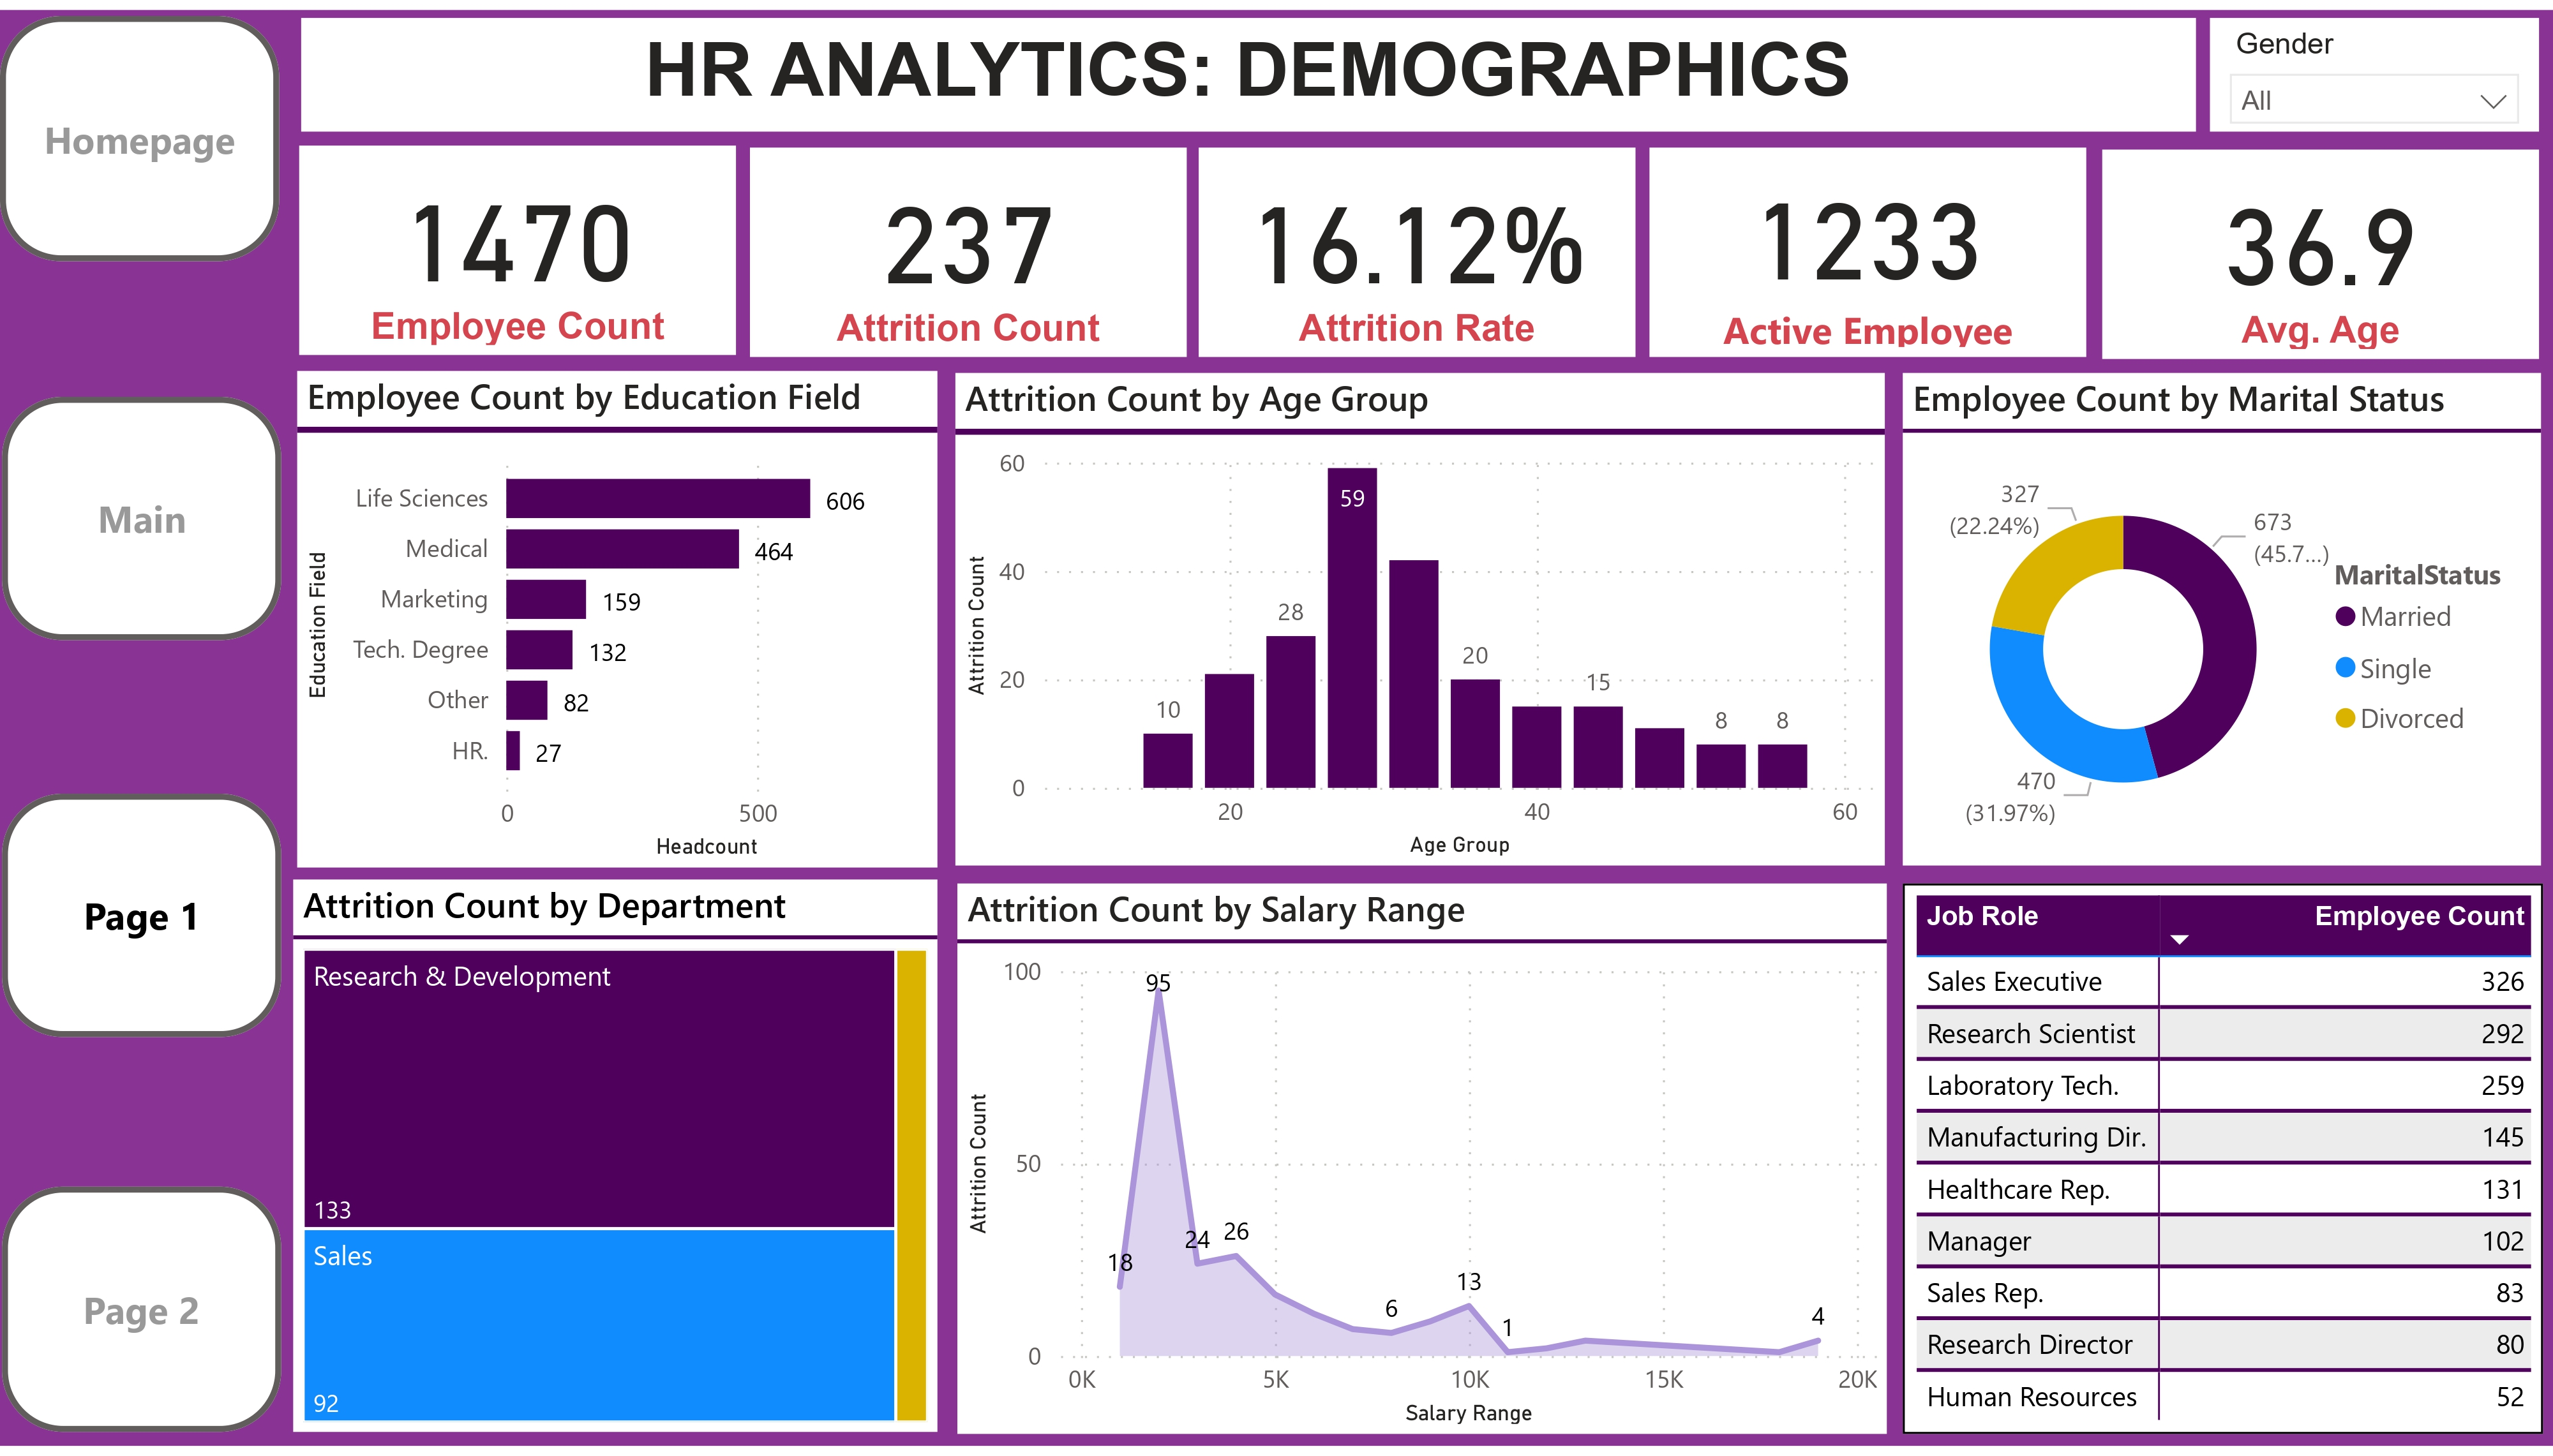

The page's visual inventory and layout, read from the dashboard file:
{"tool":"powerbi","page":{"name":"P1","canvas":[1280,720],"ordinal":2},"visuals":[{"type":"card","fields":{"Values":["Analysed_HR_Data.Headcount"]},"box":[149.9,67.5,218.8,105.4],"z":0},{"type":"textbox","box":[151.3,4.1,949.6,56.7],"z":1000},{"type":"card","fields":{"Values":["Analysed_HR_Data.Attrition Count"]},"box":[375.5,68.9,218.8,105.4],"z":2000},{"type":"card","fields":{"Values":["Analysed_HR_Data.Exit Rate"]},"box":[601.1,68.9,218.8,105.4],"z":3000},{"type":"card","fields":{"Values":["Analysed_HR_Data.Active Employee"]},"box":[826.7,68.9,218.8,105.4],"z":4000},{"type":"card","fields":{"Values":["Analysed_HR_Data.Avg. Age"]},"box":[1053.6,70.2,218.8,105.4],"z":5000},{"type":"barChart","title":"Employee Count by Education Field","fields":{"Category":["Analysed_HR_Data.EducationField"],"Y":["Analysed_HR_Data.Headcount"]},"box":[148.6,181,321.5,248.5],"z":6000},{"type":"columnChart","fields":{"Category":["Analysed_HR_Data.Age Group"],"Y":["Analysed_HR_Data.Attrition Count"]},"box":[478.9,182.4,466,247.2],"z":7000},{"type":"donutChart","title":"Employee Count by Marital Status","fields":{"Y":["Analysed_HR_Data.Headcount"],"Category":["Analysed_HR_Data.MaritalStatus"]},"box":[953.7,182.4,320.1,247.2],"z":8000},{"type":"treemap","fields":{"Group":["Analysed_HR_Data.Department"],"Values":["Analysed_HR_Data.Attrition Count"]},"box":[147.2,436.3,322.8,276.9],"z":9000},{"type":"areaChart","fields":{"Category":["Analysed_HR_Data.Salary Range"],"Y":["Analysed_HR_Data.Attrition Count"]},"box":[479.5,437.7,466,275.6],"z":10000},{"type":"tableEx","fields":{"Values":["Analysed_HR_Data.JobRole","Sum(Analysed_HR_Data.EmployeeCount)"]},"box":[953.7,437.7,321.5,275.6],"z":11000},{"type":"slicer","fields":{"Values":["Analysed_HR_Data.Gender"]},"box":[1107.6,4.1,164.8,56.7],"z":12000},{"type":"actionButton","box":[1.4,193.6,140.5,122],"z":13000},{"type":"actionButton","box":[1.4,392.6,140.5,122],"z":14000},{"type":"actionButton","box":[1.4,590.3,140,122.9],"z":15000},{"type":"actionButton","box":[0,2.7,140,122.9],"z":16000}]}

Visuals, with their boxes in screenshot pixels (x1, y1, x2, y2), scaled from the page's 1280x720 canvas onto the 2553x1456 screenshot:
card - Analysed_HR_Data.Headcount: x1=299, y1=137, x2=735, y2=350
textbox: x1=302, y1=8, x2=2196, y2=123
card - Analysed_HR_Data.Attrition Count: x1=749, y1=139, x2=1185, y2=352
card - Analysed_HR_Data.Exit Rate: x1=1199, y1=139, x2=1635, y2=352
card - Analysed_HR_Data.Active Employee: x1=1649, y1=139, x2=2085, y2=352
card - Analysed_HR_Data.Avg. Age: x1=2101, y1=142, x2=2538, y2=355
"Employee Count by Education Field" barChart: x1=296, y1=366, x2=938, y2=868
columnChart - Analysed_HR_Data.Age Group x Analysed_HR_Data.Attrition Count: x1=955, y1=369, x2=1885, y2=869
"Employee Count by Marital Status" donutChart: x1=1902, y1=369, x2=2541, y2=869
treemap - Analysed_HR_Data.Department x Analysed_HR_Data.Attrition Count: x1=294, y1=882, x2=938, y2=1442
areaChart - Analysed_HR_Data.Salary Range x Analysed_HR_Data.Attrition Count: x1=956, y1=885, x2=1886, y2=1443
tableEx - Analysed_HR_Data.JobRole x Sum(Analysed_HR_Data.EmployeeCount): x1=1902, y1=885, x2=2543, y2=1443
slicer - Analysed_HR_Data.Gender: x1=2209, y1=8, x2=2538, y2=123
actionButton: x1=3, y1=392, x2=283, y2=638
actionButton: x1=3, y1=794, x2=283, y2=1041
actionButton: x1=3, y1=1194, x2=282, y2=1442
actionButton: x1=0, y1=6, x2=280, y2=254
